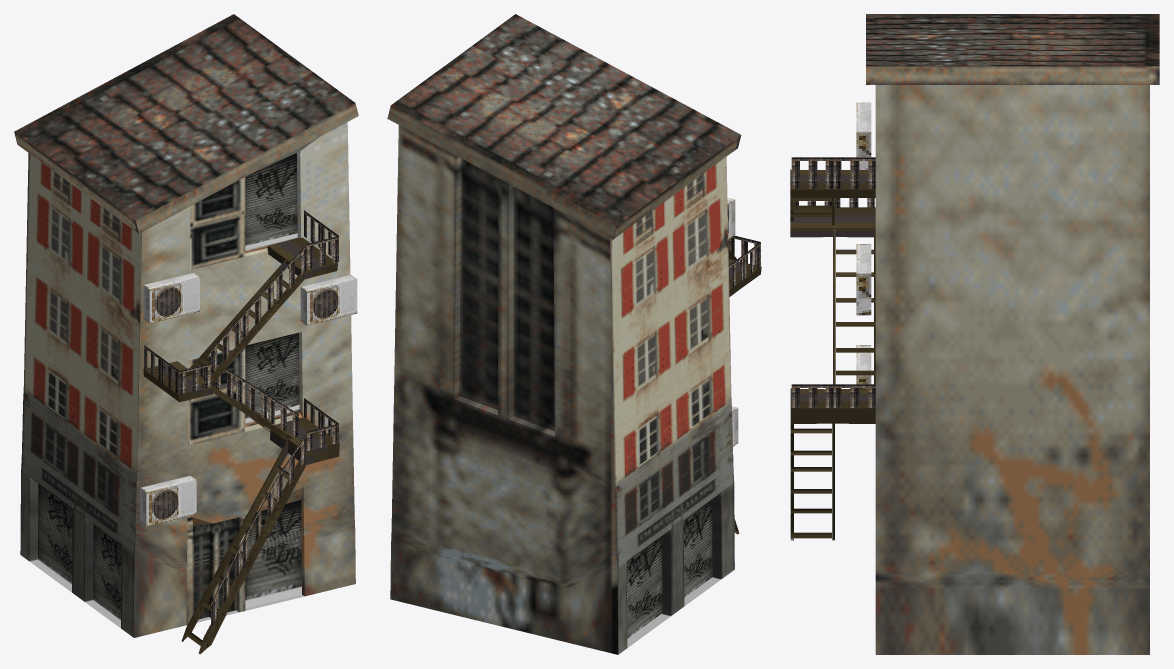
The model's file is BUILDING2.fbx.
The picture shows the model from 3 angles, left to right: view 1: azimuth 30°, elevation 25°; view 2: azimuth 150°, elevation 25°; view 3: azimuth 270°, elevation 25°; orthographic projection. The views are drawn at different scales.
Visible parts, largest first — view 1: Cube.477, Plane.030, Plane.031, Cube.479, Cube.478, Cube.480, Plane.034, Plane.033, Plane.040, Plane.035, Plane.037, Plane.038 (+2 smaller); view 2: Cube.477, Plane.034; view 3: Cube.477, Plane.030, Plane.034, Plane.031, Plane.039, Plane.032, Cube.479, Cube.480.
Boxes of the visible parts, box(x1,y1,x2,y2) form: Cube.477: box(14, 14, 358, 637); Plane.030: box(181, 417, 339, 654); Plane.031: box(185, 237, 337, 388); Cube.479: box(300, 275, 357, 325); Cube.478: box(140, 475, 196, 526); Cube.480: box(143, 272, 199, 323); Plane.034: box(143, 361, 292, 440); Plane.033: box(211, 433, 307, 628); Plane.040: box(211, 246, 307, 375); Plane.035: box(202, 358, 298, 437); Plane.037: box(144, 345, 178, 394); Plane.038: box(306, 236, 338, 269); Cube.477: box(387, 14, 741, 654); Plane.034: box(728, 259, 761, 296); Cube.477: box(866, 14, 1159, 654); Plane.030: box(790, 388, 875, 540); Plane.034: box(790, 207, 875, 384); Plane.031: box(790, 169, 875, 225); Plane.039: box(791, 157, 875, 188); Plane.032: box(791, 384, 875, 407); Cube.479: box(856, 244, 871, 315); Cube.480: box(856, 102, 871, 169).
Size of the model in its own units: 557 by 1153 by 659.
